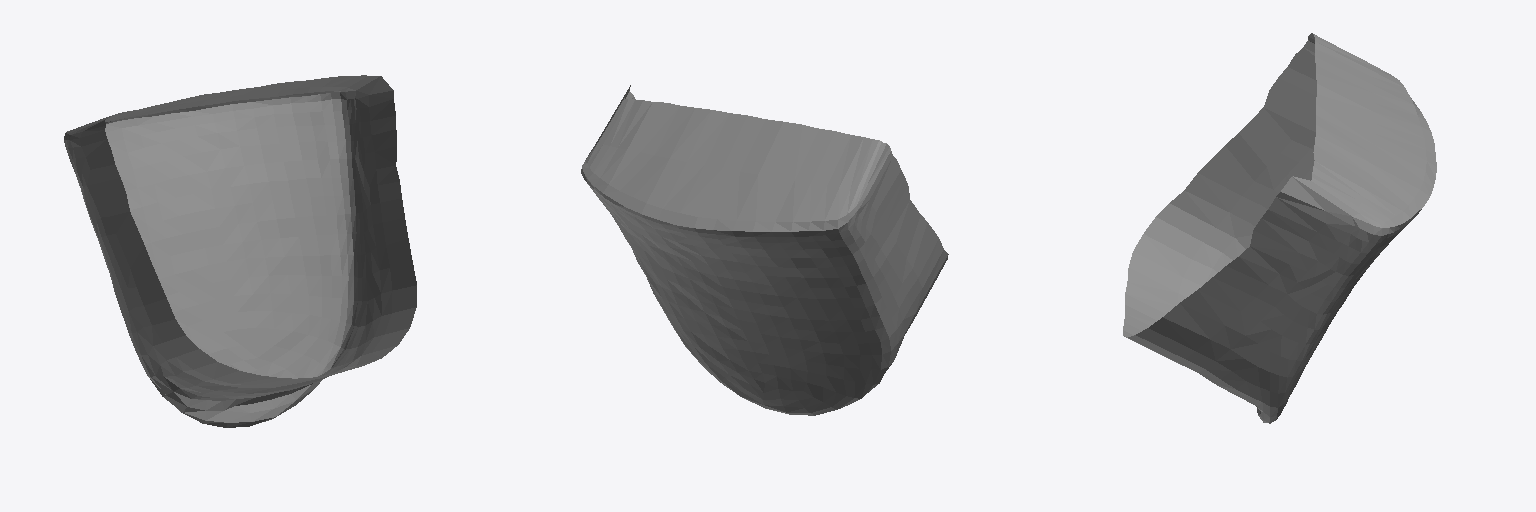
Rendered from left_trigger.obj.
3 renders of one model, left to right at view 1: azimuth 30°, elevation 25°; view 2: azimuth 150°, elevation 25°; view 3: azimuth 270°, elevation 25°, orthographic.
Visible parts, largest first — view 1: left_trigger; view 2: left_trigger; view 3: left_trigger.
Boxes of the visible parts, x1,y1,x2,y2 form: left_trigger: [64, 75, 416, 427]; left_trigger: [581, 85, 948, 415]; left_trigger: [1123, 33, 1436, 423].
Bounding box in the file's own units: 0.0281 × 0.031 × 0.0277.